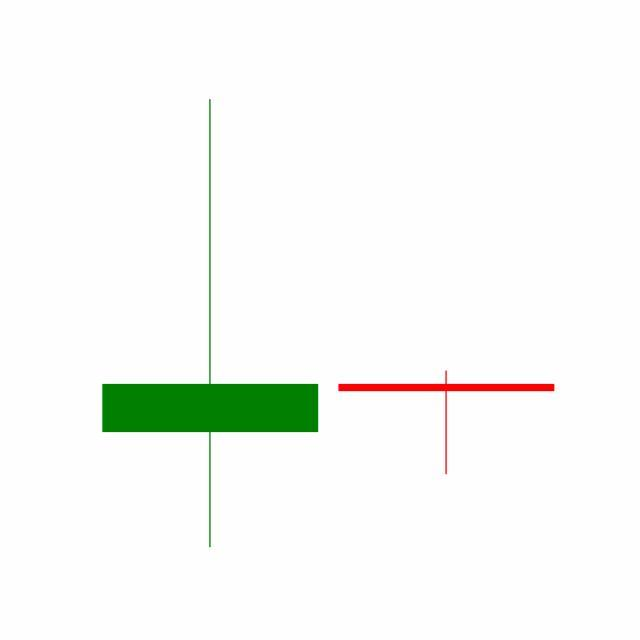Spinning Top: (328, 370, 566, 477)
